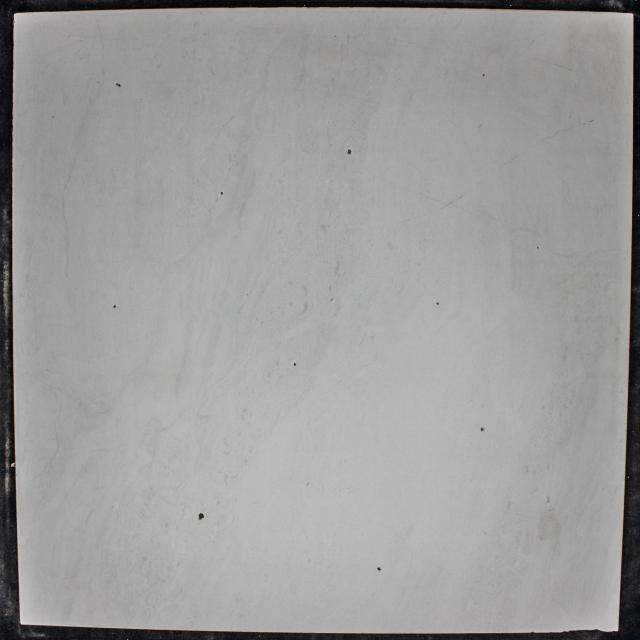hole: (198, 512, 205, 520), (346, 148, 352, 156), (115, 82, 122, 87), (376, 566, 382, 571), (112, 304, 118, 309), (219, 190, 224, 196), (480, 427, 485, 431), (293, 362, 297, 367), (536, 245, 540, 250), (436, 300, 439, 306), (482, 73, 486, 77)
line: (543, 123, 581, 140), (440, 195, 464, 209)
